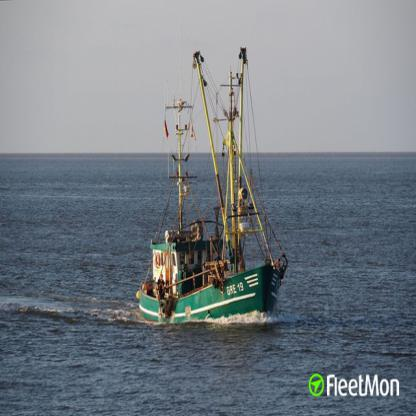Fishing Boat: (135, 44, 287, 326)
